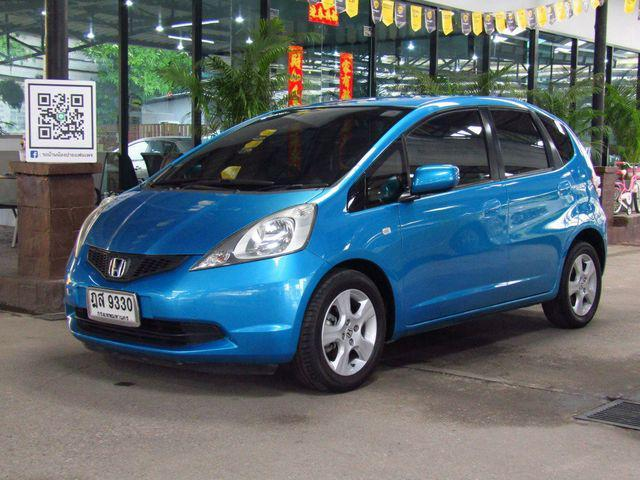Hatchback: (44, 80, 624, 384)
